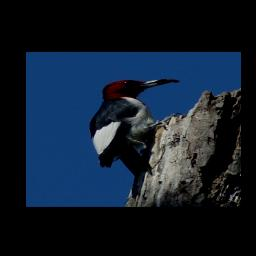Woodpecker: (88, 78, 179, 199)
